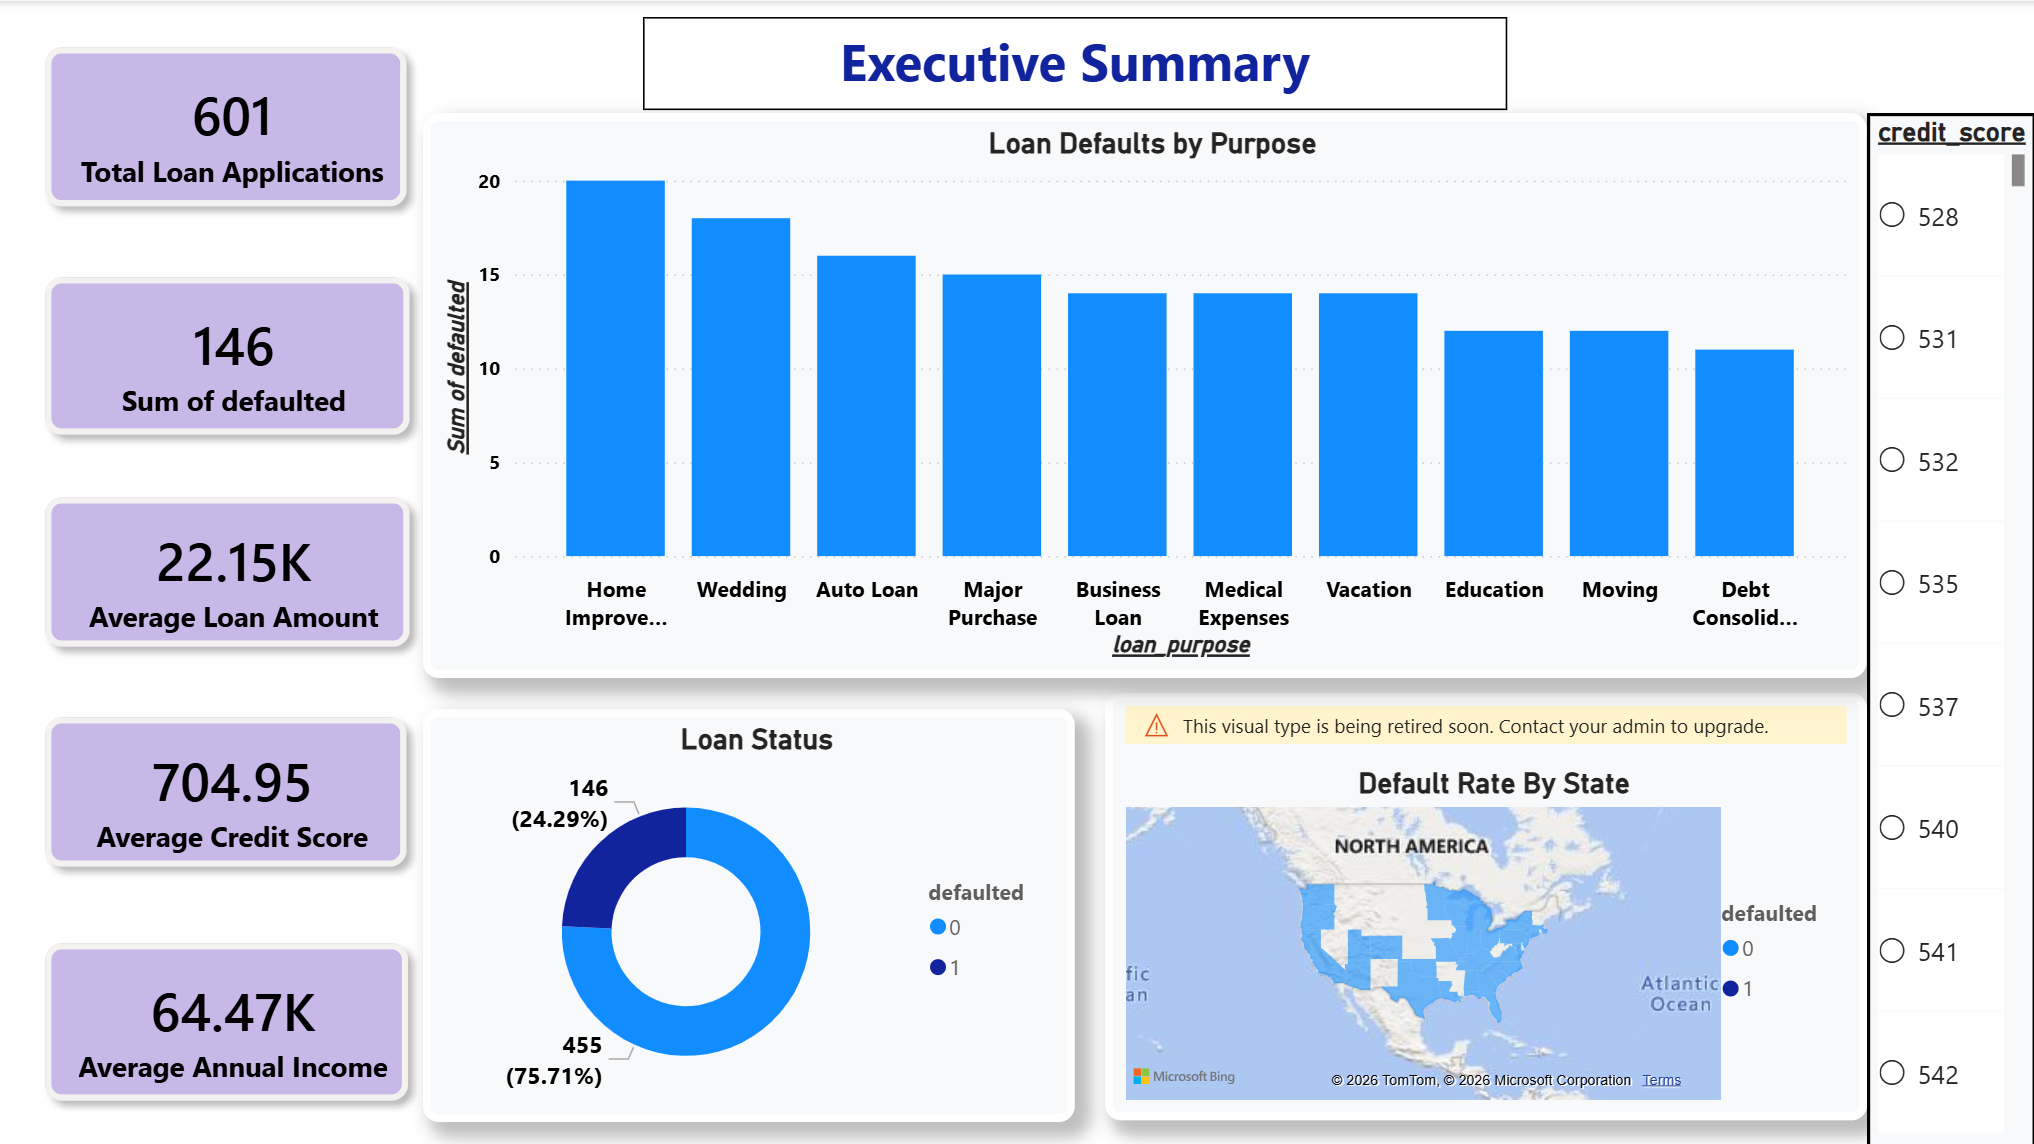

The page's visual inventory and layout, read from the dashboard file:
{"tool":"powerbi","page":{"name":"Executive Summary","canvas":[1280,720],"ordinal":0},"visuals":[{"type":"cardVisual","fields":{"Data":["CountNonNull(loan_applications.loan_id)"]},"box":[0,0,285.7,158.6],"z":0},{"type":"cardVisual","fields":{"Data":["Sum(loan_applications.defaulted)"]},"box":[0,144.3,287.1,157.1],"z":1000},{"type":"cardVisual","fields":{"Data":["Avg(loan_applications.loan_amount)"]},"box":[0,282.9,287.1,152.9],"z":2000},{"type":"cardVisual","fields":{"Data":["Avg(borrower_profiles.credit_score)"]},"box":[0,421.4,285.7,152.9],"z":3000},{"type":"cardVisual","fields":{"Data":["Avg(borrower_profiles.annual_income)"]},"box":[0,562.7,286.6,157.7],"z":4000},{"type":"donutChart","title":"Loan Status","fields":{"Y":["CountNonNull(loan_applications.loan_status)"],"Category":["loan_applications.defaulted"]},"box":[266.9,444.4,409.5,259.3],"z":5000},{"type":"filledMap","title":"Default Rate By State","fields":{"Category":["borrower_profiles.state"],"Series":["loan_applications.defaulted"]},"box":[694.6,435.3,479.2,268.4],"z":6000},{"type":"columnChart","title":"Loan Defaults by Purpose","fields":{"Y":["Sum(loan_applications.defaulted)"],"Category":["loan_applications.loan_purpose"]},"box":[266.9,69.8,906.9,354.9],"z":7000},{"type":"textbox","box":[404.3,10,542.9,58.6],"z":8000},{"type":"listSlicer","fields":{"Values":["borrower_profiles.credit_score"]},"box":[1173.8,69.8,106.2,650.6],"z":9000}]}

Visuals, with their boxes in screenshot pixels (x1, y1, x2, y2), scaled from the page's 1280x720 canvas onto the 2034x1144 screenshot:
cardVisual - CountNonNull(loan_applications.loan_id): <box>0,0,454,252</box>
cardVisual - Sum(loan_applications.defaulted): <box>0,229,456,479</box>
cardVisual - Avg(loan_applications.loan_amount): <box>0,449,456,692</box>
cardVisual - Avg(borrower_profiles.credit_score): <box>0,670,454,912</box>
cardVisual - Avg(borrower_profiles.annual_income): <box>0,894,455,1143</box>
"Loan Status" donutChart: <box>424,706,1075,1118</box>
"Default Rate By State" filledMap: <box>1104,692,1865,1118</box>
"Loan Defaults by Purpose" columnChart: <box>424,111,1865,675</box>
textbox: <box>642,16,1505,109</box>
listSlicer - borrower_profiles.credit_score: <box>1865,111,2033,1143</box>
